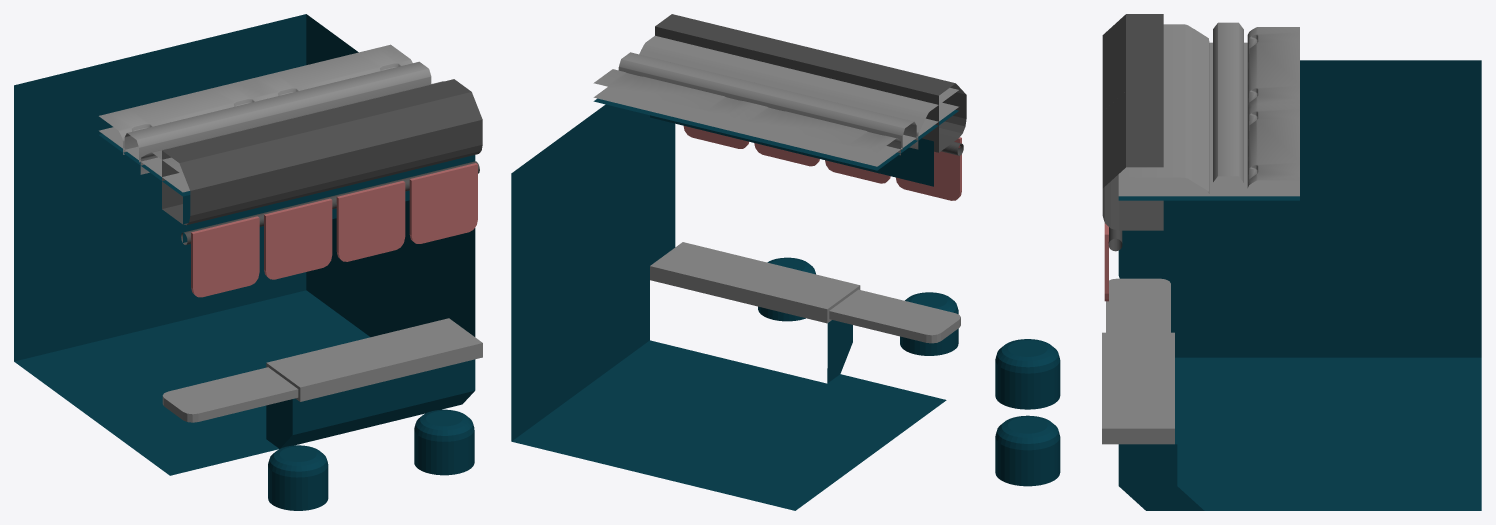
File: MB_Restaurant_Straight_Bottom_Small.fbx
3 renders of one model, left to right at view 1: azimuth 30°, elevation 25°; view 2: azimuth 150°, elevation 25°; view 3: azimuth 270°, elevation 25°, orthographic. The views are drawn at different scales.
Visible parts, largest first — view 1: Cube.6050; view 2: Cube.6050; view 3: Cube.6050.
Boxes of the visible parts, x1,y1,x2,y2 form: Cube.6050: (14,14,482,510); Cube.6050: (511,14,966,510); Cube.6050: (995,14,1481,510).
Size of the model in its own units: 4 by 4.18 by 5.36.
